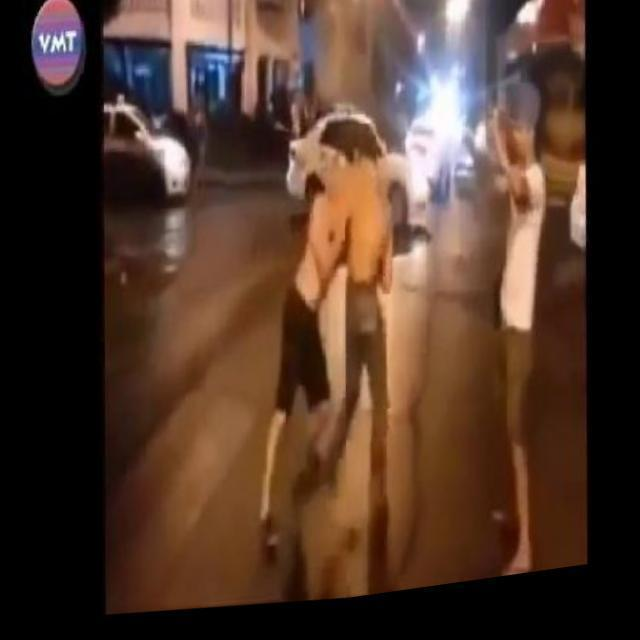fight: (228, 138, 426, 616)
